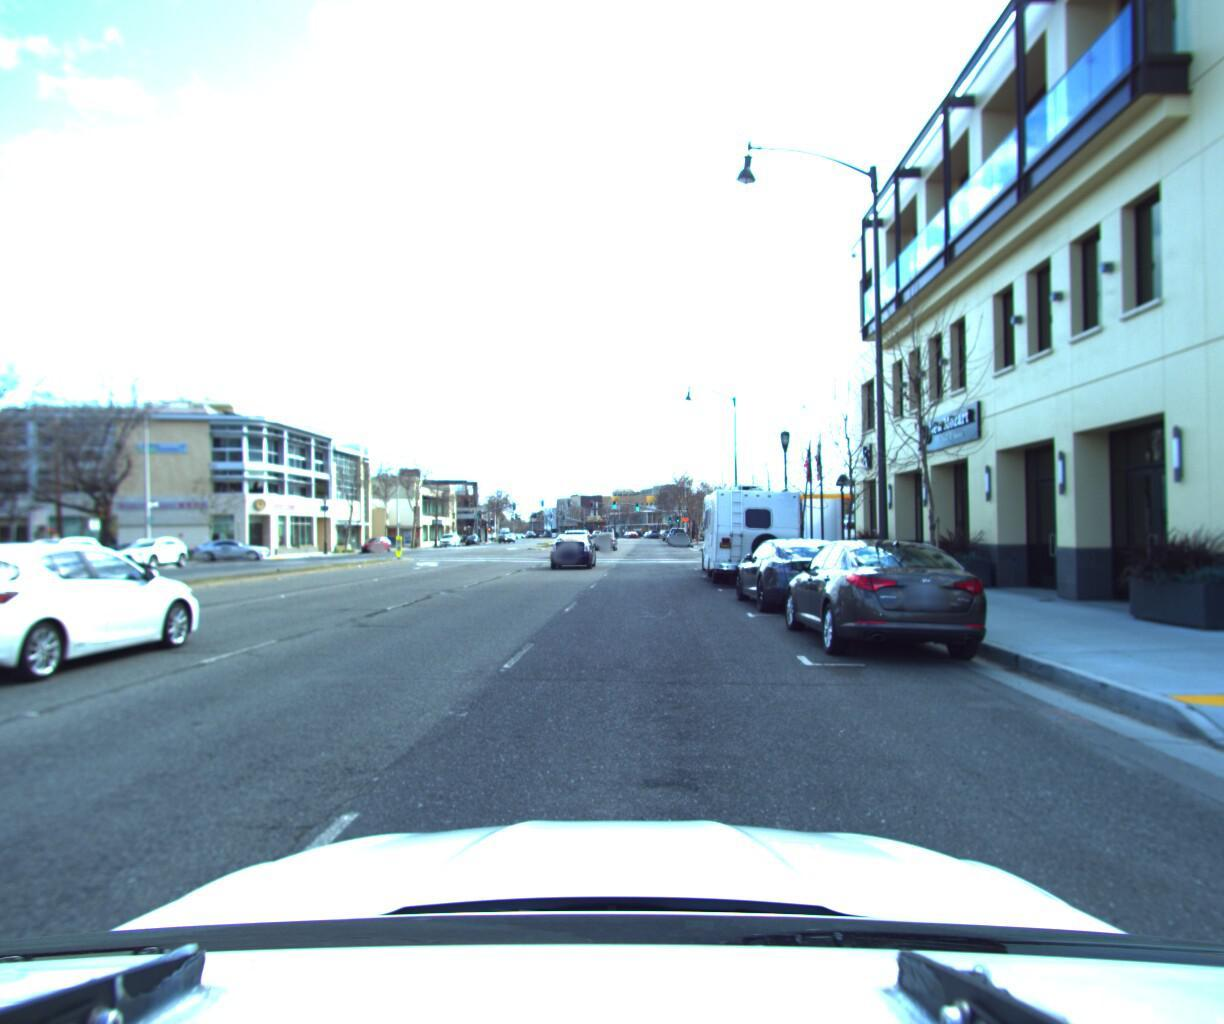car: (0, 535, 222, 698), (779, 528, 1024, 670), (731, 528, 880, 617), (0, 534, 119, 580), (106, 535, 197, 571), (545, 526, 596, 564), (195, 535, 274, 559), (0, 542, 33, 591), (360, 532, 393, 550), (592, 527, 615, 546), (671, 526, 689, 542)
other_vehicle: (701, 471, 815, 589)
